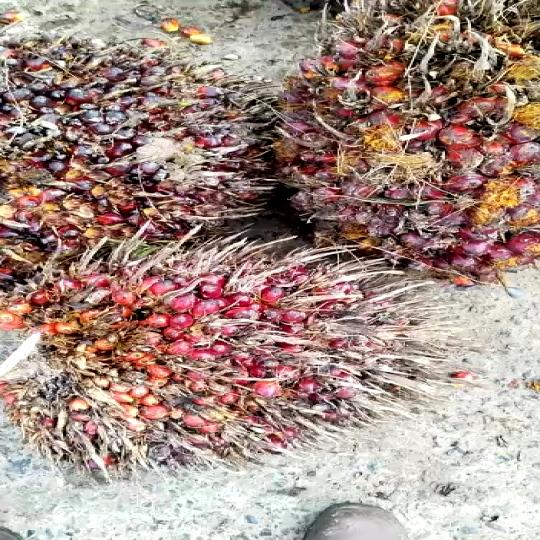masak: (0, 221, 460, 495), (277, 0, 540, 288), (0, 25, 304, 270)
